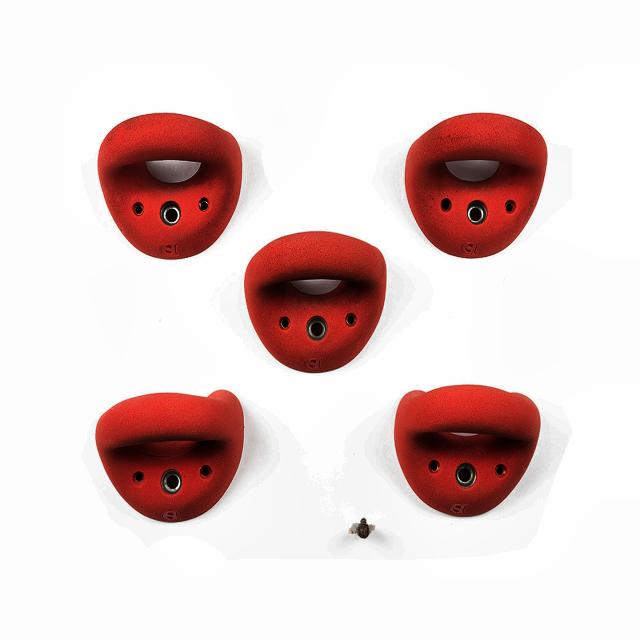Hold: (92, 115, 238, 271), (93, 383, 252, 526), (400, 112, 546, 265), (245, 231, 386, 377), (392, 383, 540, 521)
